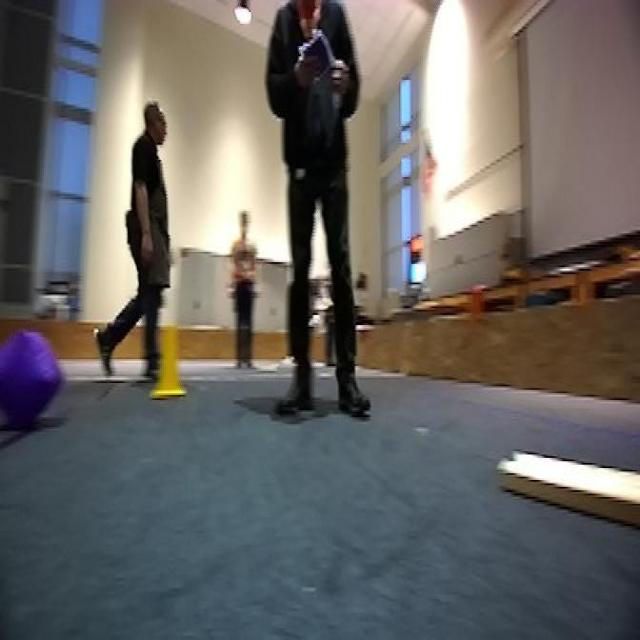frc_cone: (155, 322, 186, 400)
frc_cube: (0, 330, 61, 441)
